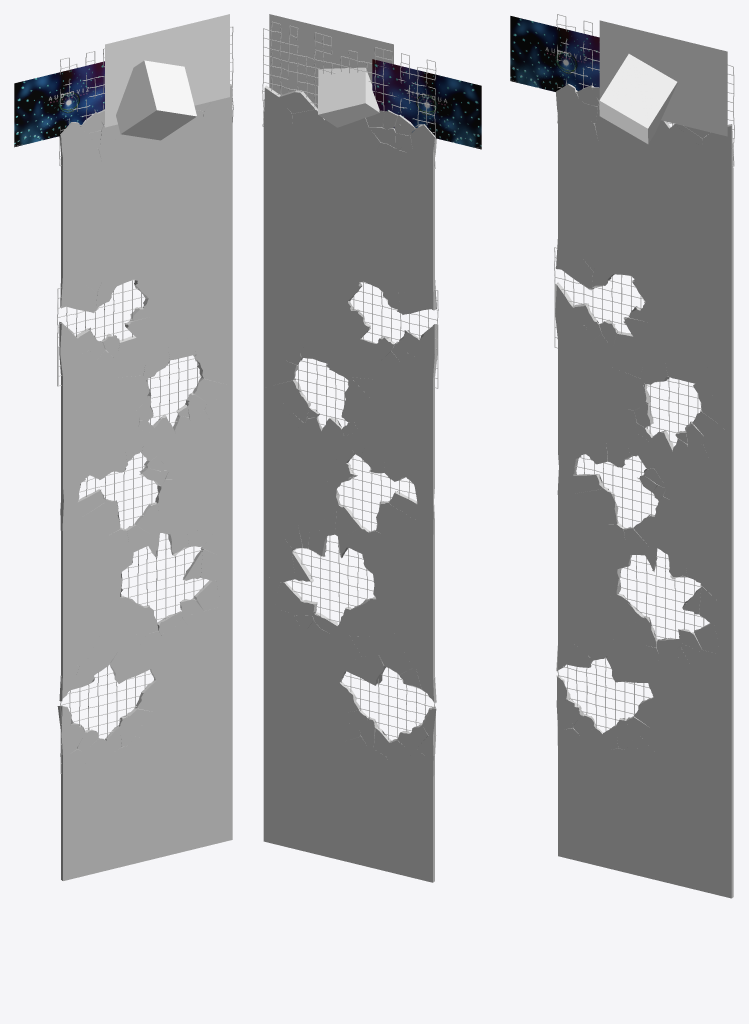
File: modelObjMap.obj
3 renders of one model, left to right at view 1: azimuth 30°, elevation 25°; view 2: azimuth 150°, elevation 25°; view 3: azimuth 330°, elevation 25°, orthographic. The views are drawn at different scales.
Parts seen in each view (by area): view 1: Fracture_Voronoï.000, Plane_Plane.000, Plane, Réseau_d'atomes.000, Cube_Cube.000; view 2: Fracture_Voronoï.000, Réseau_d'atomes.000, Plane, Plane_Plane.000, Cube_Cube.000; view 3: Fracture_Voronoï.000, Plane_Plane.000, Plane, Réseau_d'atomes.000, Cube_Cube.000.
Part boxes in pixels (box(x1,y1,x2,y2)): Fracture_Voronoï.000: box(57, 84, 232, 880); Plane_Plane.000: box(105, 14, 229, 127); Plane: box(14, 61, 104, 147); Réseau_d'atomes.000: box(57, 26, 233, 773); Cube_Cube.000: box(116, 60, 196, 140); Fracture_Voronoï.000: box(263, 85, 437, 882); Réseau_d'atomes.000: box(262, 21, 438, 775); Plane: box(372, 59, 481, 149); Plane_Plane.000: box(269, 14, 393, 108); Cube_Cube.000: box(318, 67, 379, 127); Fracture_Voronoï.000: box(555, 83, 733, 898); Plane_Plane.000: box(599, 20, 727, 136); Plane: box(510, 16, 599, 91); Réseau_d'atomes.000: box(554, 14, 734, 745); Cube_Cube.000: box(599, 54, 677, 143).
Bounding box in the file's own units: 645 × 2723 × 217.
